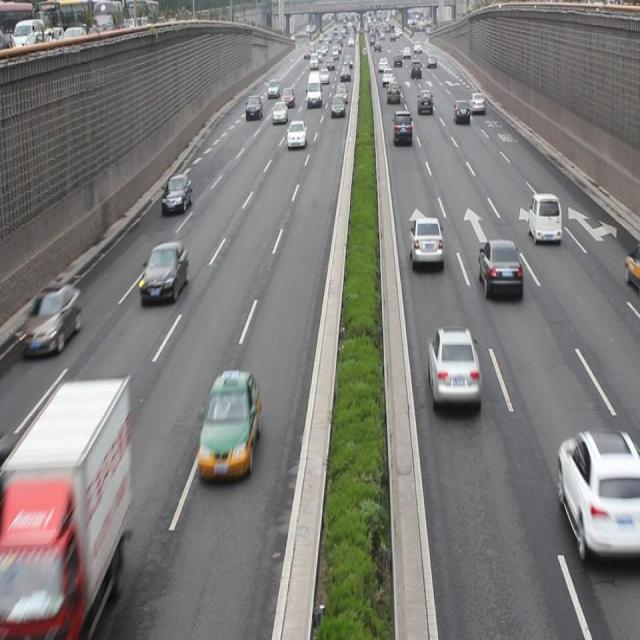bus: (10, 378, 132, 640)
car: (556, 427, 640, 560), (198, 370, 262, 480), (19, 278, 81, 356), (427, 327, 480, 407), (139, 239, 188, 303), (478, 238, 522, 299), (526, 191, 561, 242), (409, 217, 442, 268), (161, 171, 192, 214), (392, 108, 411, 147), (286, 118, 307, 150), (452, 99, 471, 126)
